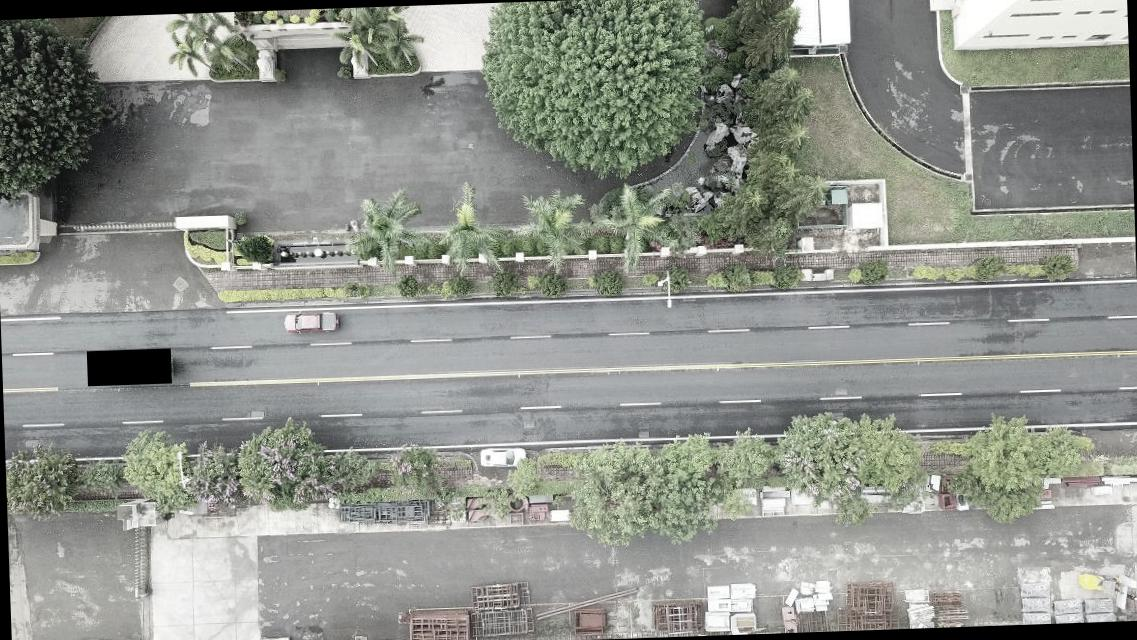vehicle: (282, 308, 341, 334), (478, 446, 526, 468)
